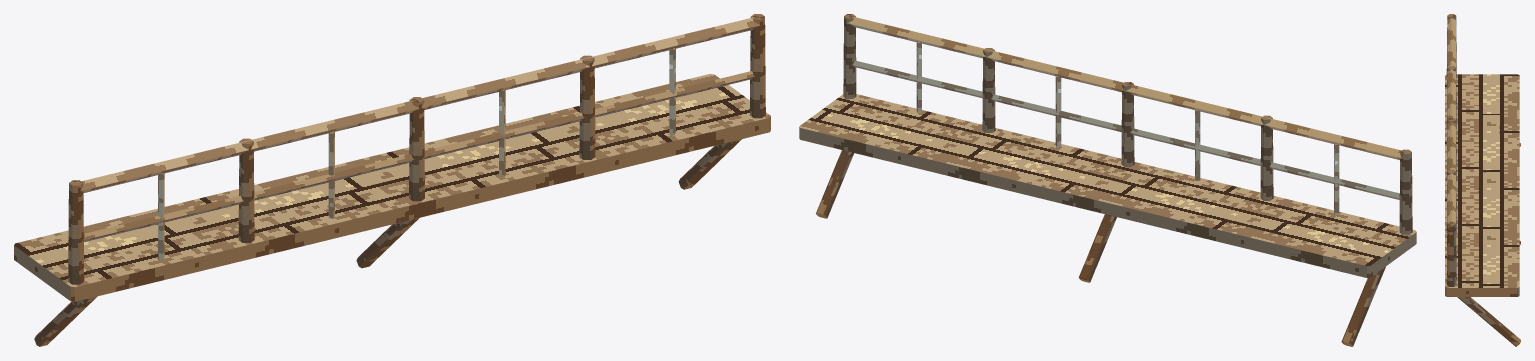
The model's file is wtown.balcony__wide.glb.
The picture shows the model from 3 angles, left to right: view 1: azimuth 30°, elevation 25°; view 2: azimuth 150°, elevation 25°; view 3: azimuth 270°, elevation 25°; orthographic projection. The views are drawn at different scales.
Visible parts, largest first — view 1: kit_deck, kit_railing, kit_brackets; view 2: kit_deck, kit_railing, kit_brackets; view 3: kit_deck, kit_railing, kit_brackets.
Part boxes in pixels (left/top/right/bottom): kit_deck: left=14, top=74, right=770, bottom=301; kit_railing: left=68, top=14, right=765, bottom=284; kit_brackets: left=34, top=139, right=741, bottom=346; kit_deck: left=799, top=94, right=1416, bottom=277; kit_railing: left=843, top=14, right=1412, bottom=234; kit_brackets: left=816, top=150, right=1385, bottom=346; kit_deck: left=1445, top=74, right=1519, bottom=296; kit_railing: left=1446, top=14, right=1456, bottom=286; kit_brackets: left=1457, top=142, right=1520, bottom=346.
Bounding box in the file's own units: 7.5 × 2.1 × 1.13.
4 materials, 4 textured.
